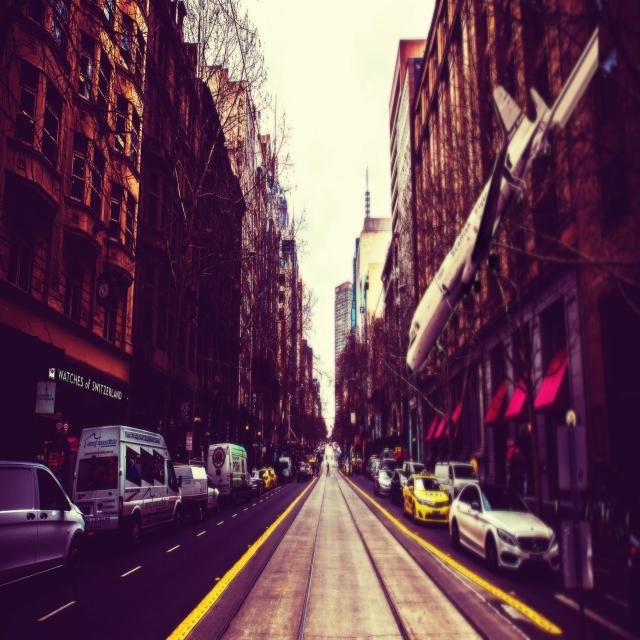airplane: (404, 24, 600, 376)
